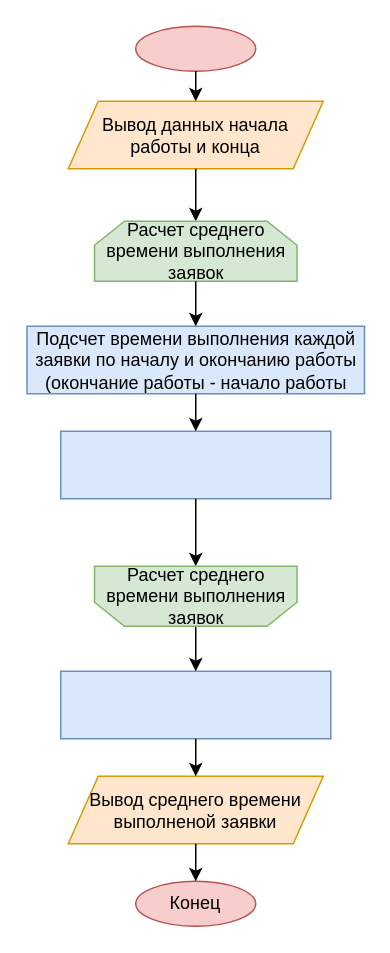
The diagram is 390 pixels wide and 953 high, and some of its shapes have lost their labels. Here are the shapes that lost their labels. From the top down, the centre of each, then its label:
At (x=195, y=48): "Начало".
At (x=195, y=464): "Сумма всего времени выполнения каждой заявки".
At (x=195, y=704): "Разделить сумму всех выполненых заявок на количество заявок".
